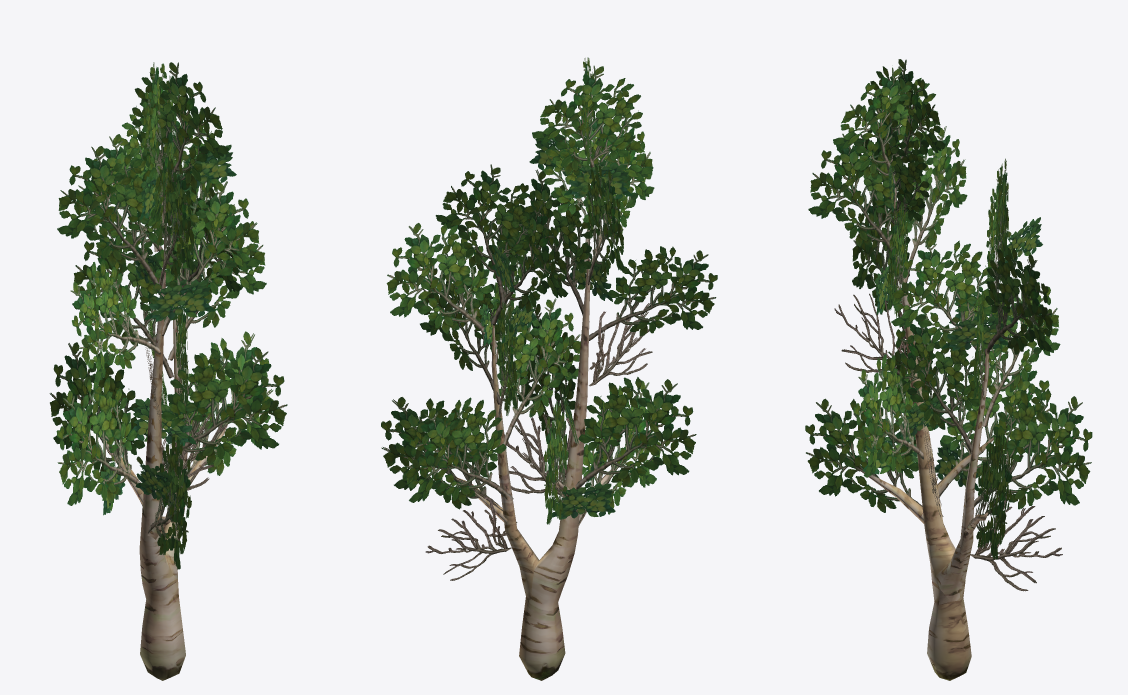
Rendered from White_BirchB.FBX.
3 views of the same model, side by side, from view 1: azimuth 30°, elevation 25°; view 2: azimuth 150°, elevation 25°; view 3: azimuth 270°, elevation 25° (orthographic). The views are drawn at different scales.
Visible parts, largest first — view 1: White_BirchB; view 2: White_BirchB; view 3: White_BirchB.
Part boxes in pixels (<box>): White_BirchB: <box>49,62,287,680</box>; White_BirchB: <box>381,57,717,680</box>; White_BirchB: <box>805,59,1092,680</box>.
Bounding box in the file's own units: 752 × 1494 × 720.
